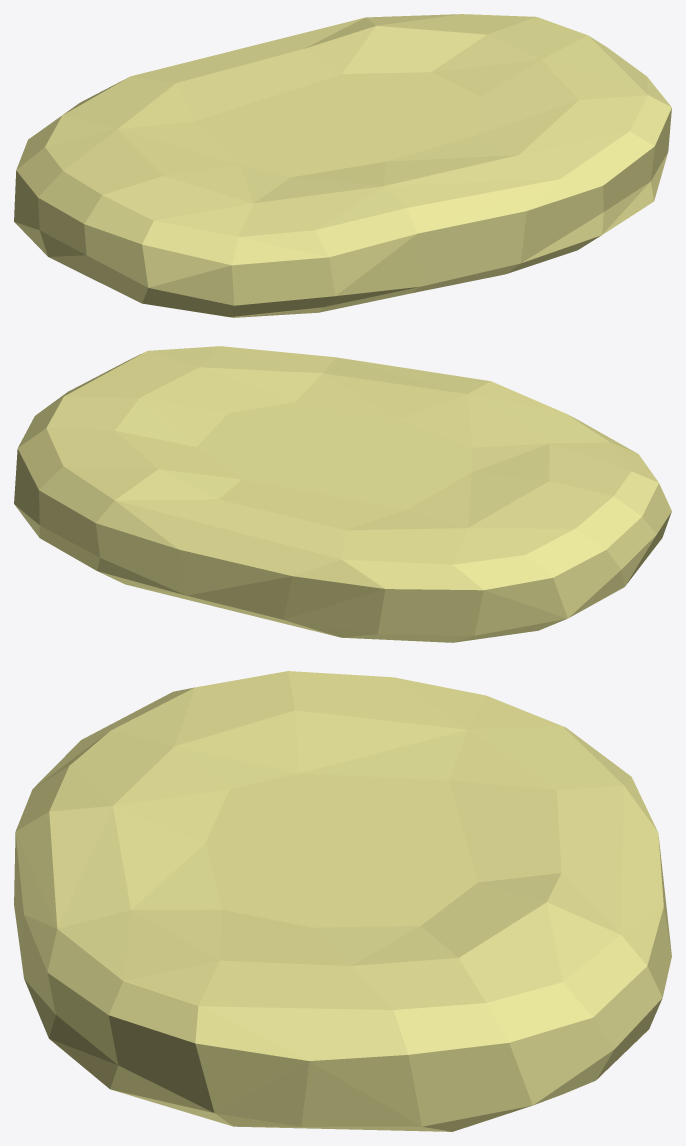
The model's file is bottombunWrongColor.fbx.
3 renders of one model, top to bottom at view 1: azimuth 30°, elevation 25°; view 2: azimuth 150°, elevation 25°; view 3: azimuth 270°, elevation 25°, orthographic. The views are drawn at different scales.
Visible parts, largest first — view 1: pain bas; view 2: pain bas; view 3: pain bas.
Boxes of the visible parts, left/top/right/bottom form: pain bas: left=14, top=14, right=671, bottom=317; pain bas: left=14, top=346, right=671, bottom=642; pain bas: left=14, top=671, right=671, bottom=1131.
Bounding box in the file's own units: 729 × 125 × 528.
